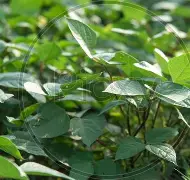crops: (10, 0, 187, 173)
